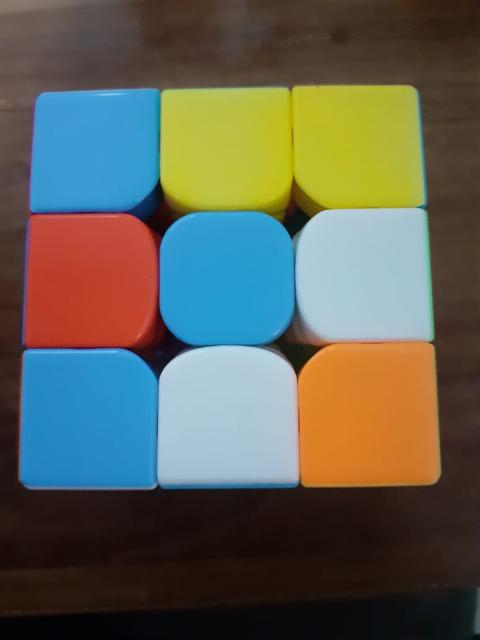Blue: (27, 350, 155, 486), (158, 216, 292, 340), (38, 94, 154, 204)
Orange: (299, 343, 431, 489)
Red: (28, 214, 152, 344)
White: (160, 351, 296, 487), (300, 218, 432, 338)
Yellow: (165, 93, 291, 201), (298, 95, 418, 198)
